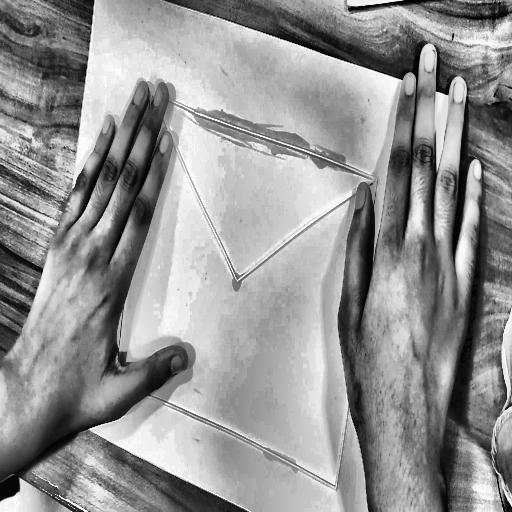bottom_left: (55, 393, 63, 407)
envelop: (95, 81, 395, 501)
top_right: (449, 91, 459, 108)
